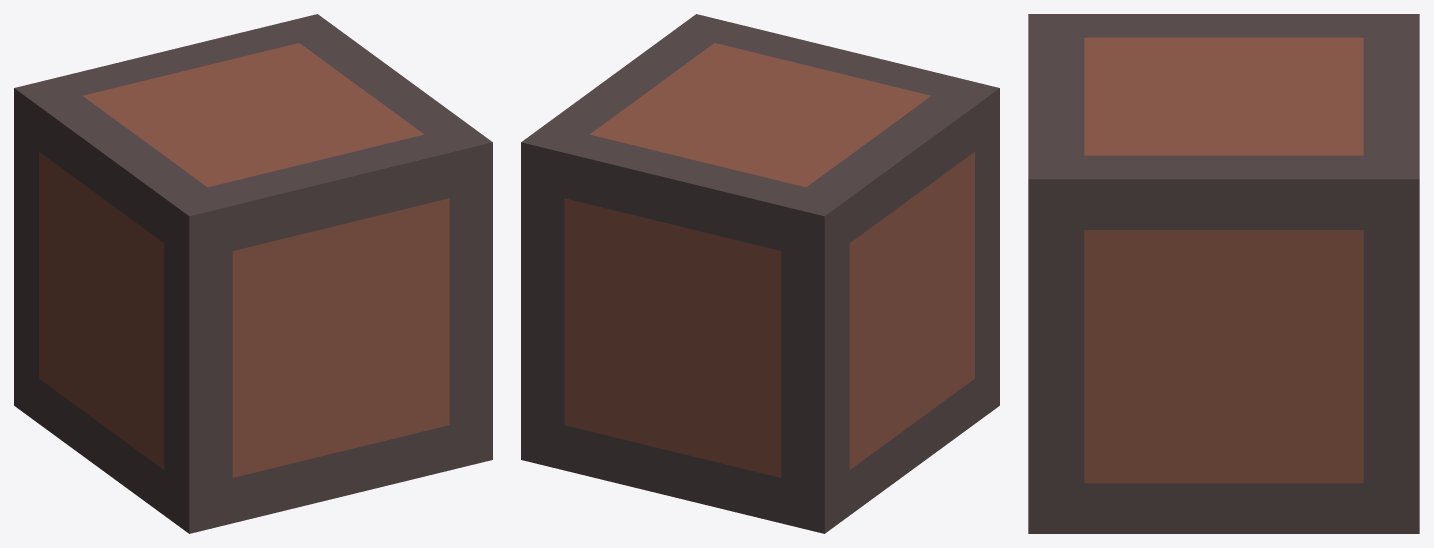
The model's file is TB_D_Prop_Crate_C.FBX.
3 views of the same model, side by side, from view 1: azimuth 30°, elevation 25°; view 2: azimuth 150°, elevation 25°; view 3: azimuth 270°, elevation 25° (orthographic). The views are drawn at different scales.
Parts seen in each view (by area): view 1: TB_D_Prop_Crate_C; view 2: TB_D_Prop_Crate_C; view 3: TB_D_Prop_Crate_C.
Part boxes in pixels (x1,y1,x2,y2): TB_D_Prop_Crate_C: (14,14,492,533); TB_D_Prop_Crate_C: (521,14,999,533); TB_D_Prop_Crate_C: (1028,14,1419,533).
Size of the model in its own units: 0.7554 by 0.7554 by 0.7554.
